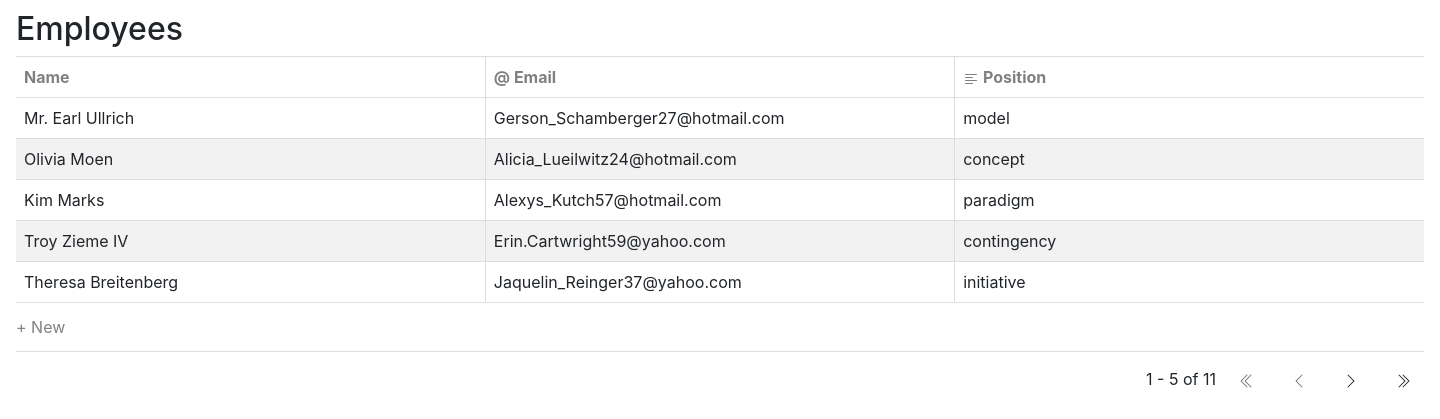
Test: Integration test Table › When click Previous button
expect the text "Mr. Earl Ullrich" is shown: met, box [16,98,485,139]
Click the button with class "last": [1403, 379] box [1382,360,1424,398]
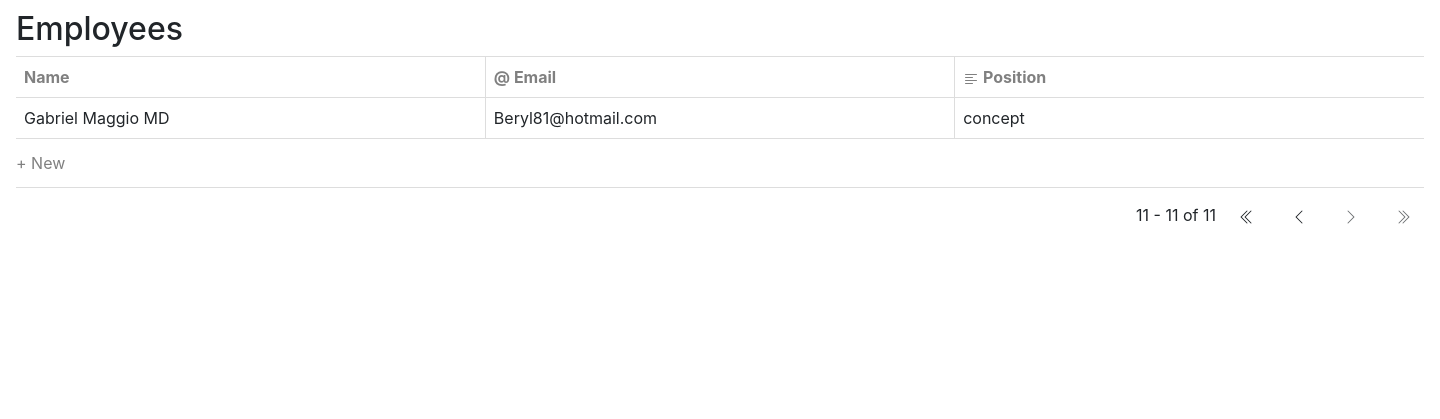
expect the text "Gabriel Maggio MD" is shown: met, box [16,98,485,139]
Click the 2nd button: [1299, 215] box [1278,196,1320,234]
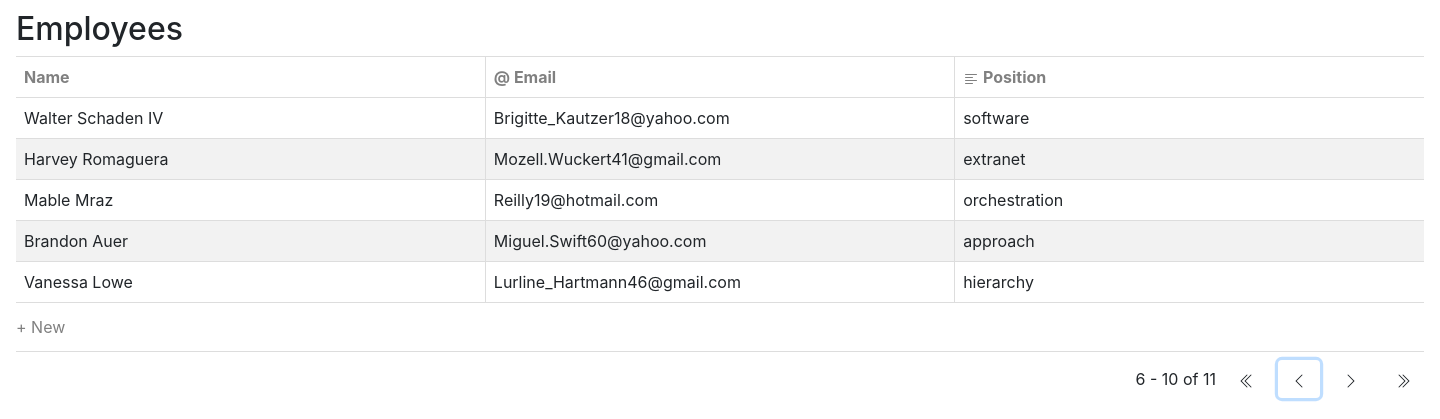
expect the text "Harvey Romaguera" is shown: met, box [16,139,485,180]
